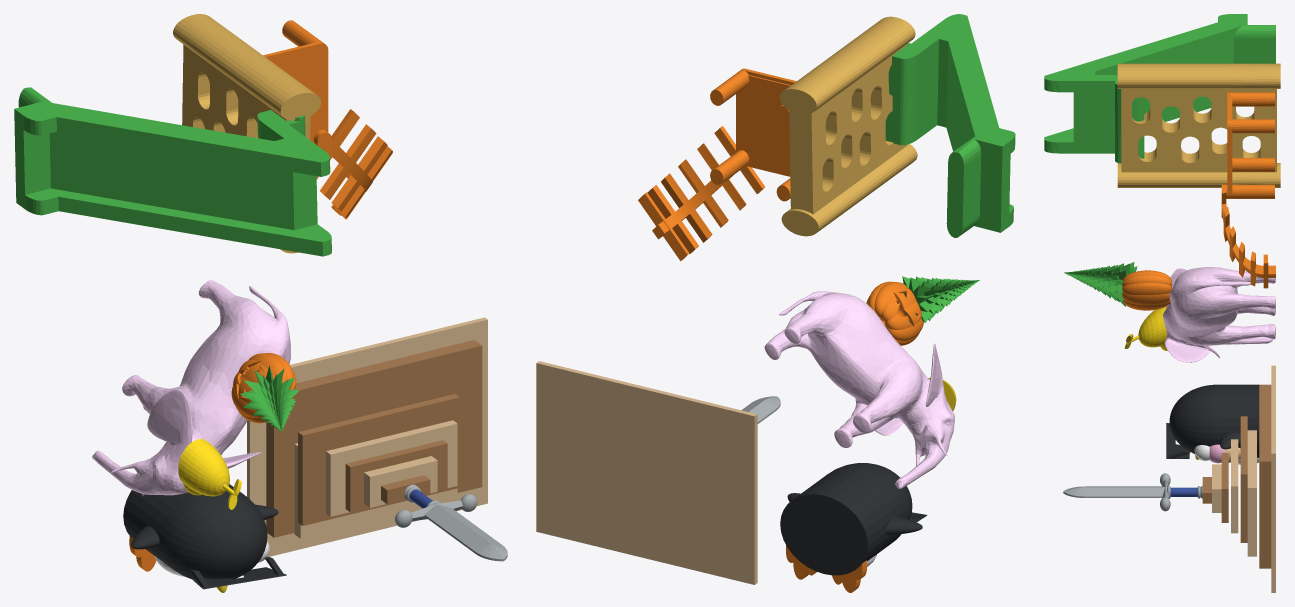
The model's file is tinker.obj.
3 views of the same model, side by side, from view 1: azimuth 30°, elevation 25°; view 2: azimuth 150°, elevation 25°; view 3: azimuth 270°, elevation 25° (orthographic). The views are drawn at different scales.
Parts seen in each view (by area): view 1: group_0_4634441, group_0_11107152, group_0_14860437, group_0_16768255, group_0_2829873, group_0_14528853, group_0_16089887, group_0_10988977, group_0_16768282; view 2: group_0_14860437, group_0_4634441, group_0_14528853, group_0_16768255, group_0_16089887, group_0_2829873; view 3: group_0_14528853, group_0_4634441, group_0_16768255, group_0_16089887, group_0_2829873, group_0_11107152, group_0_14860437, group_0_10988977, group_0_16768282.
Boxes of the visible parts, left/top/right/bottom form: group_0_4634441: left=14, top=87, right=331, bottom=432; group_0_11107152: left=266, top=340, right=482, bottom=537; group_0_14860437: left=247, top=317, right=487, bottom=557; group_0_16768255: left=92, top=280, right=290, bottom=496; group_0_2829873: left=123, top=484, right=286, bottom=589; group_0_14528853: left=173, top=14, right=321, bottom=253; group_0_16089887: left=129, top=20, right=392, bottom=571; group_0_10988977: left=395, top=484, right=507, bottom=561; group_0_16768282: left=178, top=439, right=241, bottom=592; group_0_14860437: left=536, top=361, right=757, bottom=584; group_0_4634441: left=885, top=14, right=1015, bottom=322; group_0_14528853: left=779, top=16, right=917, bottom=236; group_0_16768255: left=764, top=291, right=954, bottom=488; group_0_16089887: left=638, top=68, right=923, bottom=592; group_0_2829873: left=780, top=463, right=927, bottom=575; group_0_14528853: left=1117, top=63, right=1280, bottom=187; group_0_4634441: left=1044, top=14, right=1275, bottom=306; group_0_16768255: left=1162, top=267, right=1275, bottom=362; group_0_16089887: left=1122, top=92, right=1275, bottom=310; group_0_2829873: left=1166, top=384, right=1259, bottom=458; group_0_11107152: left=1202, top=384, right=1271, bottom=568; group_0_14860437: left=1212, top=365, right=1275, bottom=592; group_0_10988977: left=1063, top=473, right=1202, bottom=511; group_0_16768282: left=1124, top=306, right=1199, bottom=459.
Size of the model in its own units: 181 by 196 by 100.
